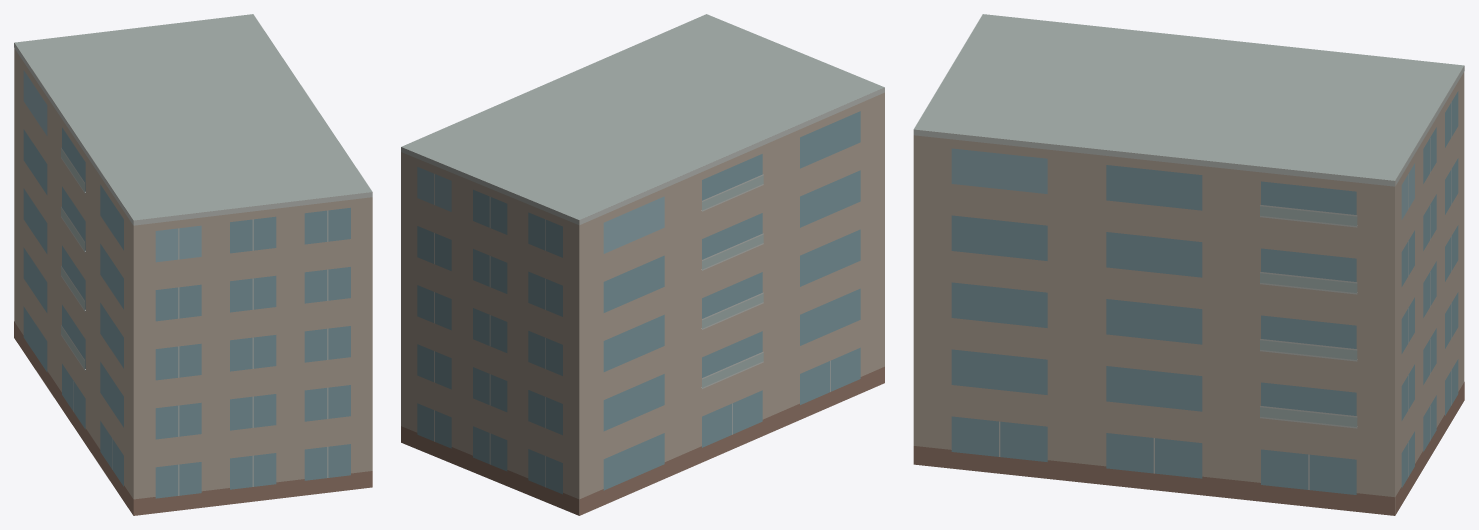
The model's file is survey-upis-33045487.glb.
3 views of the same model, side by side, from view 1: azimuth 30°, elevation 25°; view 2: azimuth 150°, elevation 25°; view 3: azimuth 270°, elevation 25° (orthographic). The views are drawn at different scales.
Parts seen in each view (by area): view 1: survey-upis-33045487.tmp; view 2: survey-upis-33045487.tmp; view 3: survey-upis-33045487.tmp.
Part boxes in pixels (left/top/right/bottom): survey-upis-33045487.tmp: left=14, top=14, right=372, bottom=515; survey-upis-33045487.tmp: left=401, top=14, right=884, bottom=515; survey-upis-33045487.tmp: left=913, top=14, right=1464, bottom=515.
Bounding box in the file's own units: 15.07 × 14.1 × 21.02.
